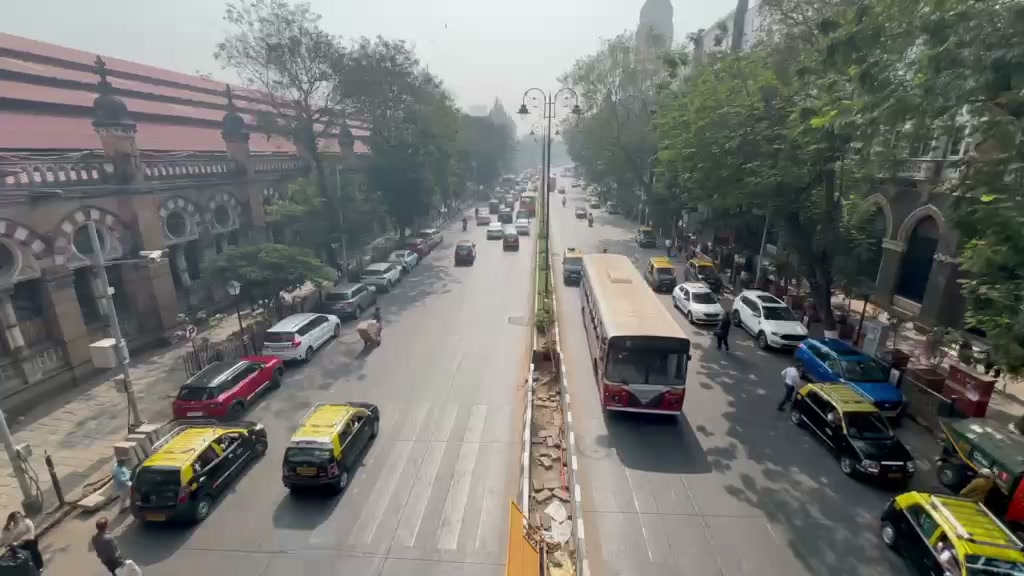bus: (577, 252, 693, 422)
car: (128, 423, 269, 525), (789, 382, 916, 487), (878, 490, 1024, 575), (792, 335, 908, 425), (281, 401, 381, 495), (171, 354, 284, 422), (936, 416, 1024, 500), (731, 290, 810, 352), (260, 311, 341, 366), (317, 280, 378, 321), (672, 281, 723, 326), (360, 261, 405, 293), (648, 258, 680, 294), (388, 249, 420, 271), (454, 240, 477, 266), (502, 228, 520, 251), (485, 223, 504, 239)
pedestrian: (1, 510, 44, 573), (90, 516, 123, 575), (776, 365, 801, 413), (714, 312, 732, 351)
truck: (788, 380, 918, 487)
